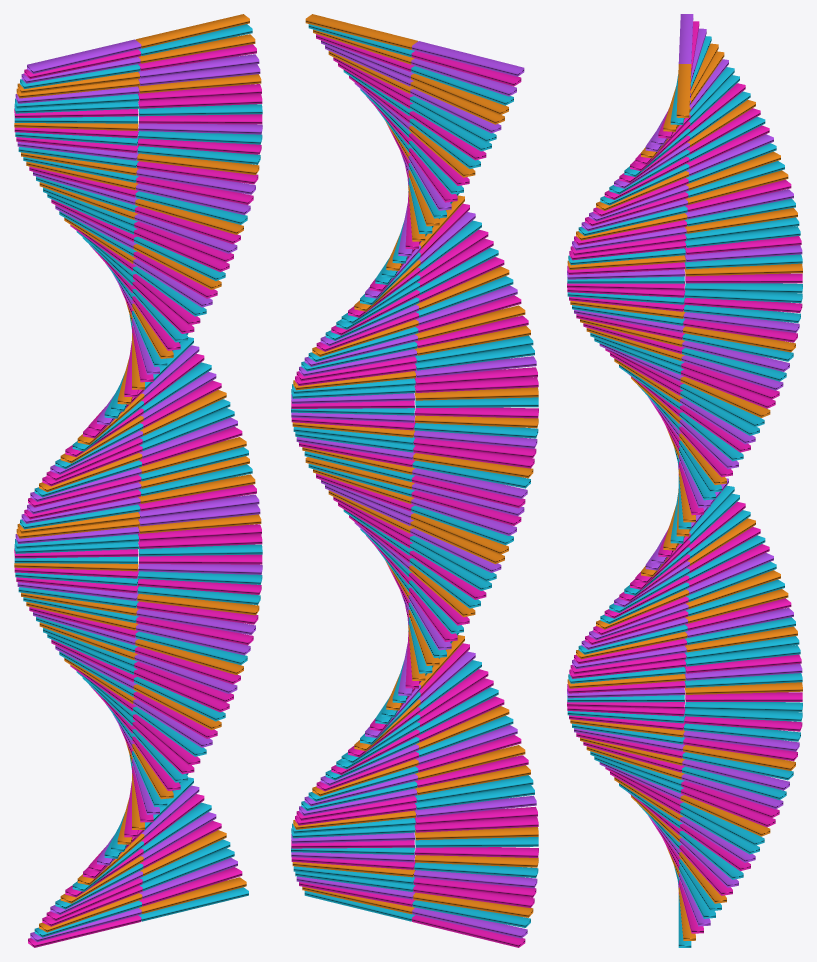
File: dna.glb
3 views of the same model, side by side, from view 1: azimuth 30°, elevation 25°; view 2: azimuth 150°, elevation 25°; view 3: azimuth 270°, elevation 25° (orthographic). The views are drawn at different scales.
Parts seen in each view (by area): view 1: Cube.235, Cube.234, Cube.098, Cube.216, Cube.102, Cube.096, Cube.220, Cube.086, Cube.094, Cube.092, Cube.210, Cube.204 (+152 smaller); view 2: Cube.235, Cube.234, Cube.018, Cube.136, Cube.144, Cube.026, Cube.132, Cube.014, Cube.028, Cube.130, Cube.146, Cube.012 (+147 smaller); view 3: Cube.175, Cube.173, Cube.051, Cube.167, Cube.049, Cube.165, Cube.169, Cube.053, Cube.047, Cube.171, Cube.055, Cube.177 (+140 smaller).
Part boxes in pixels (bbox=[...]): Cube.235: bbox=[27, 39, 141, 73]; Cube.234: bbox=[135, 14, 249, 48]; Cube.098: bbox=[138, 544, 262, 556]; Cube.216: bbox=[138, 104, 262, 116]; Cube.102: bbox=[138, 524, 261, 541]; Cube.096: bbox=[139, 554, 262, 564]; Cube.220: bbox=[138, 84, 261, 101]; Cube.086: bbox=[137, 594, 259, 615]; Cube.094: bbox=[138, 564, 262, 574]; Cube.092: bbox=[138, 571, 262, 584]; Cube.210: bbox=[138, 131, 262, 144]; Cube.204: bbox=[137, 153, 259, 175]; Cube.235: bbox=[412, 41, 524, 76]; Cube.234: bbox=[305, 14, 417, 49]; Cube.018: bbox=[415, 847, 538, 857]; Cube.136: bbox=[415, 407, 538, 418]; Cube.144: bbox=[414, 367, 537, 385]; Cube.026: bbox=[414, 806, 537, 824]; Cube.132: bbox=[414, 423, 538, 438]; Cube.014: bbox=[414, 862, 538, 877]; Cube.028: bbox=[415, 795, 536, 817]; Cube.130: bbox=[414, 430, 537, 448]; Cube.146: bbox=[414, 356, 536, 377]; Cube.012: bbox=[414, 870, 537, 888]; Cube.175: bbox=[685, 273, 802, 283]; Cube.173: bbox=[685, 283, 802, 293]; Cube.051: bbox=[684, 716, 802, 731]; Cube.167: bbox=[684, 305, 800, 323]; Cube.049: bbox=[684, 723, 800, 741]; Cube.165: bbox=[683, 312, 799, 332]; Cube.169: bbox=[684, 298, 802, 312]; Cube.053: bbox=[684, 709, 802, 721]; Cube.047: bbox=[683, 730, 799, 751]; Cube.171: bbox=[684, 290, 802, 303]; Cube.055: bbox=[685, 702, 802, 711]; Cube.177: bbox=[685, 263, 802, 276].
Size of the model in its own units: 3.02 by 11.78 by 3.02.
